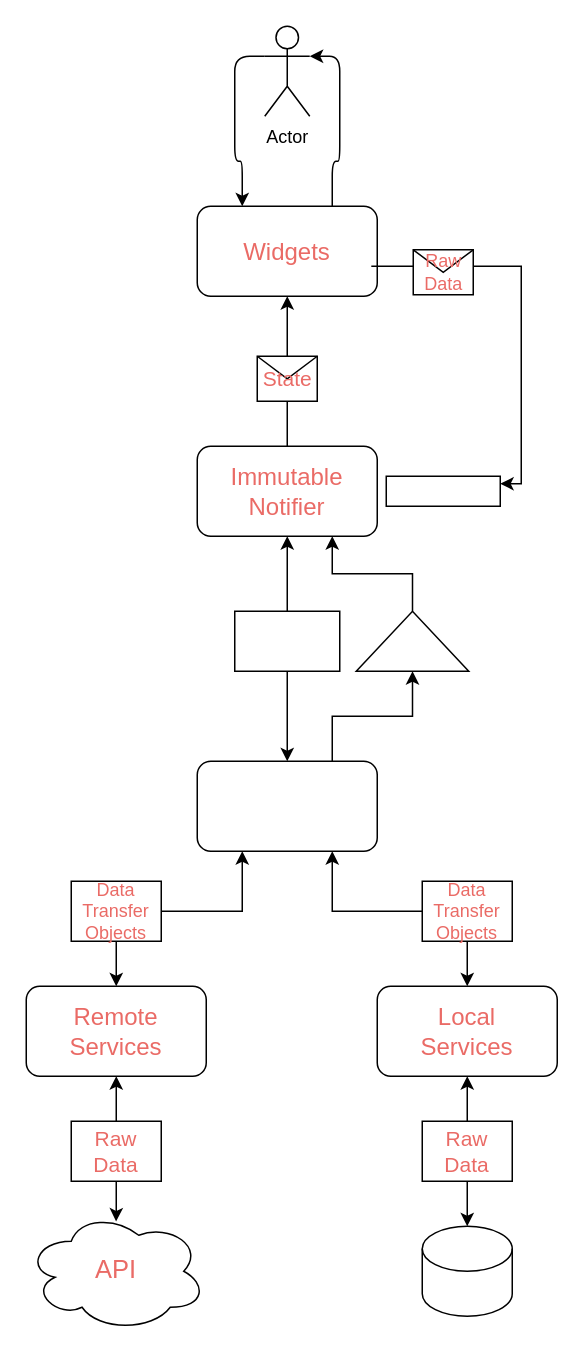
Image size: 584x1358. Some labels were removed from this diagram. The box of each missing label's shape, as (x1, y1, x2, y2) in pixels:
Entities: (233, 610, 340, 671)
Failure: (355, 610, 469, 671)
methods: (385, 475, 500, 506)
Repositories: (196, 760, 377, 851)
Storage: (421, 1225, 512, 1316)
